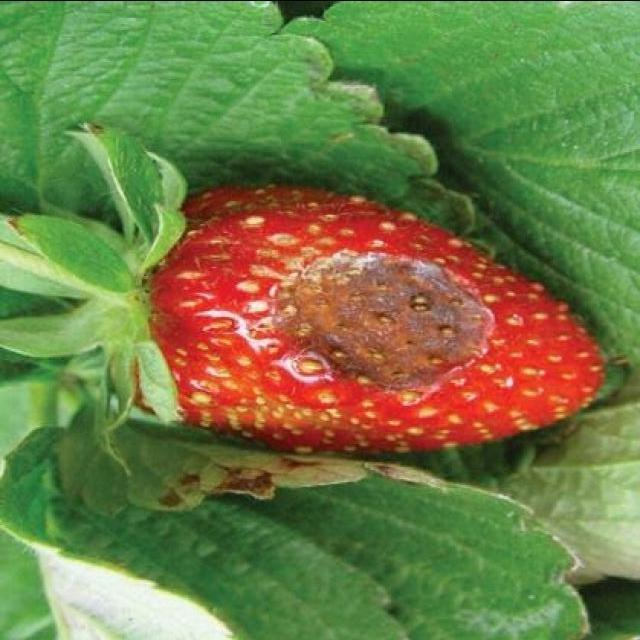Anthracnose Fruit Rot: (149, 185, 606, 449)
